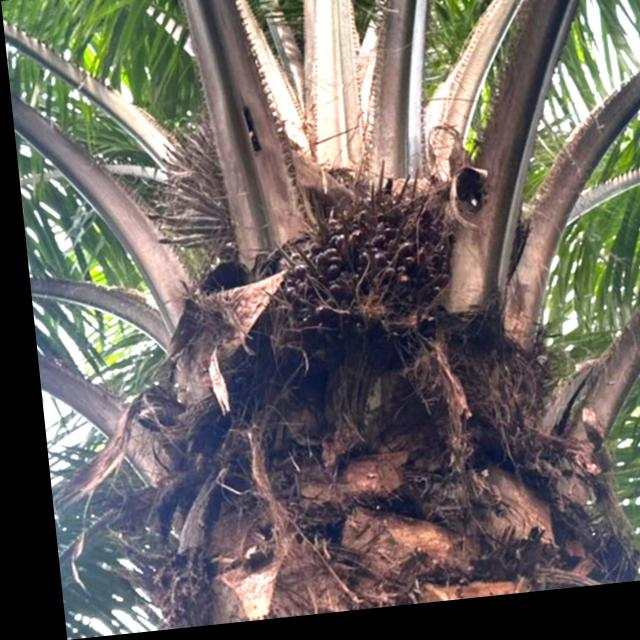ripe: (251, 155, 456, 382)
